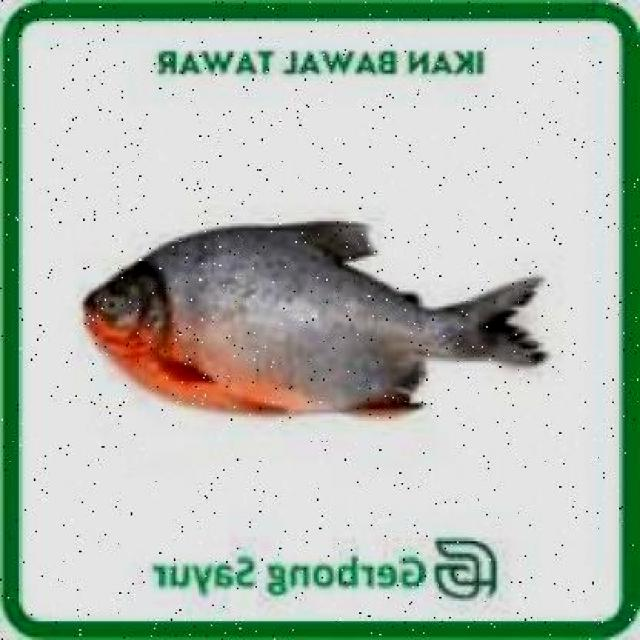ikan-pacu: (84, 218, 544, 419)
